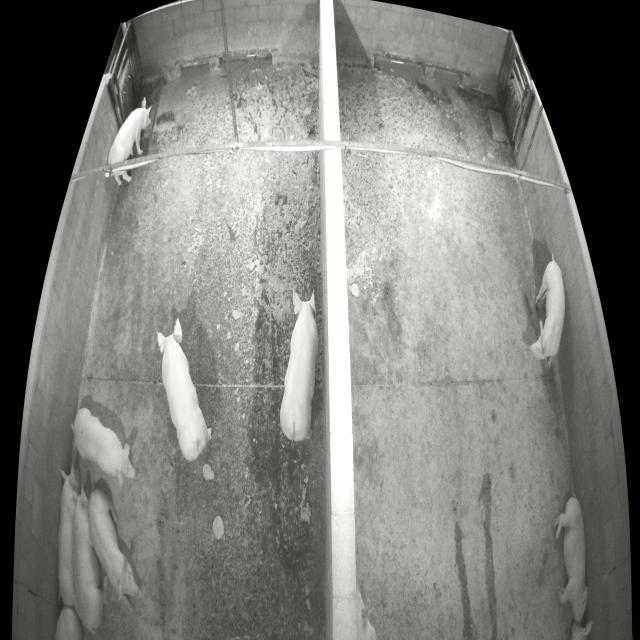pig: (158, 318, 212, 462), (89, 490, 141, 615), (280, 288, 319, 440), (72, 485, 107, 632), (73, 407, 136, 486), (555, 496, 588, 623), (531, 254, 565, 367), (108, 97, 152, 184), (58, 464, 79, 606), (356, 583, 376, 638), (56, 606, 82, 639)
